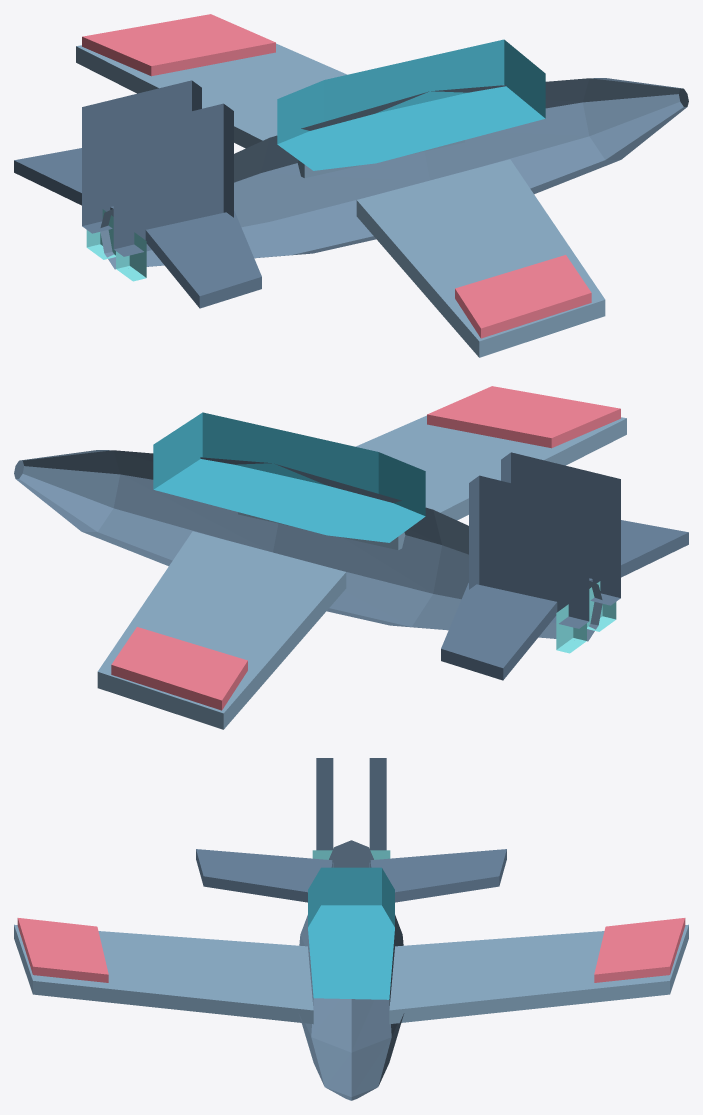
File: patrol-plane.glb
The picture shows the model from 3 angles, top to bottom: view 1: azimuth 30°, elevation 25°; view 2: azimuth 150°, elevation 25°; view 3: azimuth 270°, elevation 25°; orthographic projection. The views are drawn at different scales.
Visible parts, largest first — view 1: wing, fuselage, tail, canopy, trim, engines; view 2: wing, fuselage, tail, canopy, trim, engines; view 3: wing, tail, canopy, trim, fuselage.
Boxes of the visible parts, x1=… form: wing: x1=76, y1=43, x2=605, y2=357; fuselage: x1=100, y1=78, x2=688, y2=269; tail: x1=14, y1=80, x2=261, y2=308; canopy: x1=277, y1=39, x2=545, y2=170; trim: x1=82, y1=14, x2=591, y2=338; engines: x1=86, y1=209, x2=146, y2=281; wing: x1=97, y1=415, x2=626, y2=729; fuselage: x1=14, y1=450, x2=602, y2=641; tail: x1=441, y1=452, x2=688, y2=680; canopy: x1=153, y1=412, x2=425, y2=542; trim: x1=111, y1=386, x2=620, y2=710; engines: x1=556, y1=581, x2=616, y2=653; wing: x1=14, y1=924, x2=688, y2=1024; tail: x1=196, y1=758, x2=506, y2=902; canopy: x1=308, y1=867, x2=394, y2=999; trim: x1=17, y1=918, x2=685, y2=982; fuselage: x1=298, y1=840, x2=404, y2=1100.
Size of the model in its own units: 2.96 by 0.88 by 3.56.
